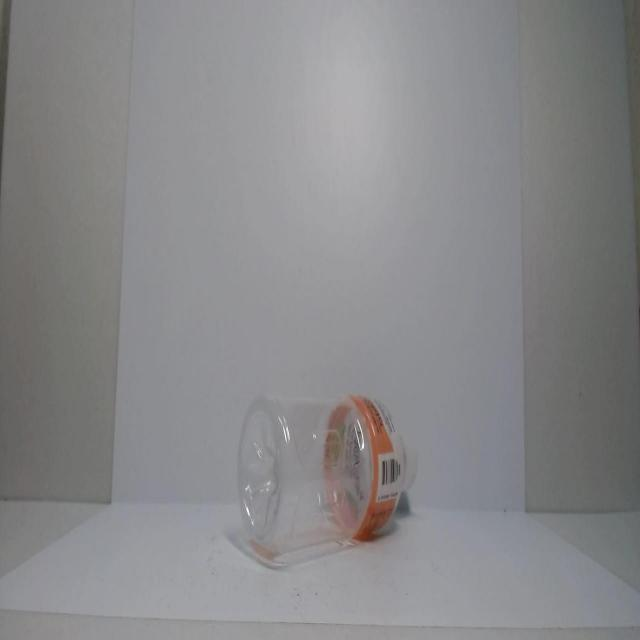bottle: (225, 376, 438, 570)
